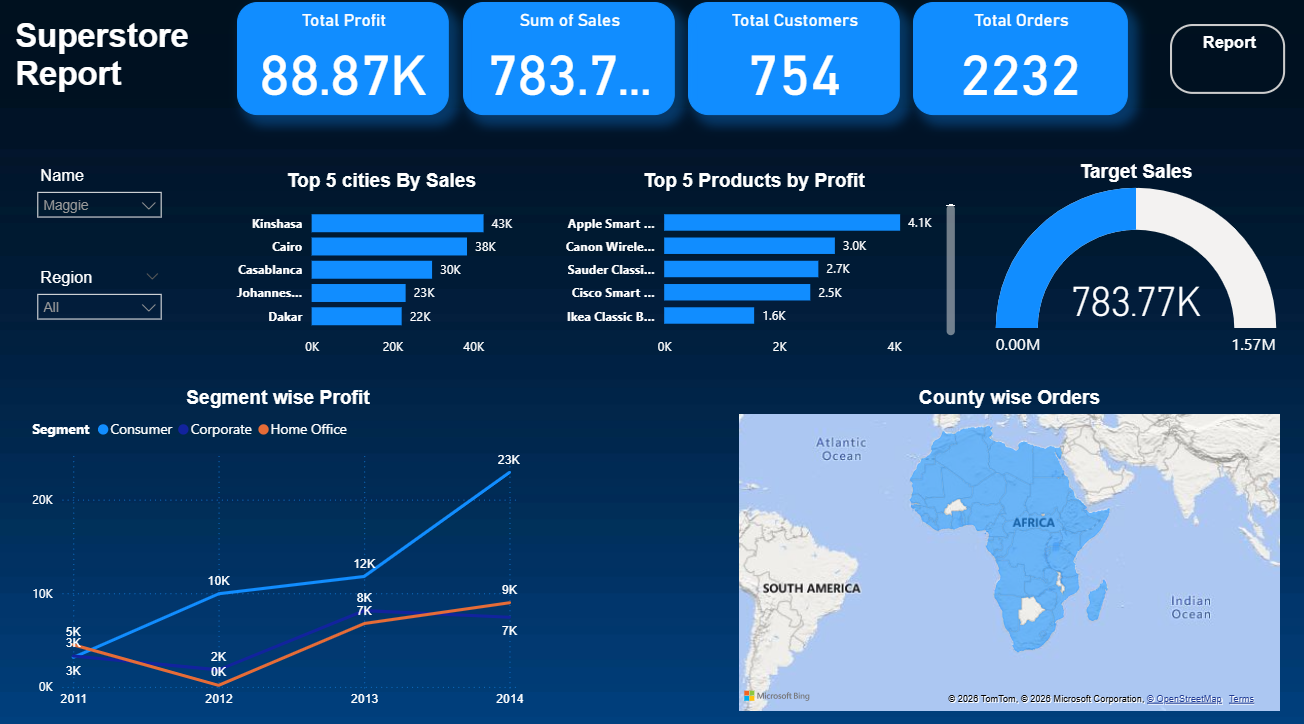

What the dashboard file says about the page in this screenshot:
{"tool":"powerbi","page":{"name":"Page 1","canvas":[1280,720],"ordinal":0},"visuals":[{"type":"barChart","title":"Top 5 cities By Sales","fields":{"Category":["Orders.City"],"Y":["Sum(Orders.Sales)"]},"box":[213,170.2,323.9,189.7],"z":0},{"type":"card","title":"Total Customers","fields":{"Values":["Count(Orders.Customer Name)"]},"box":[673.1,6.8,206.2,109.9],"z":1000},{"type":"card","title":"Total Orders","fields":{"Values":["Count(Orders.Order ID)"]},"box":[891.9,6.8,209.1,109.9],"z":2000},{"type":"card","title":"Sum of Sales","fields":{"Values":["Sum(Orders.Sales)"]},"box":[454.2,6.8,206.2,109.9],"z":3000},{"type":"card","title":"Total Profit","fields":{"Values":["Sum(Orders.Profit)"]},"box":[234.4,6.8,206.2,109.9],"z":4000},{"type":"gauge","title":"Target Sales","fields":{"Y":["Sum(Orders.Sales)"]},"box":[937.6,161.5,342.4,198.4],"z":5000},{"type":"barChart","title":"Top 5 Products by Profit","fields":{"Category":["Orders.Product Name"],"Y":["Sum(Orders.Profit)"]},"box":[536.9,170.2,400.7,189.7],"z":6000},{"type":"lineChart","title":"Segment wise Profit","fields":{"Category":["Orders.Order Date.Variation.Date Hierarchy.Year"],"Y":["Sum(Orders.Profit)"],"Series":["Orders.Segment"]},"box":[30.2,381.3,488.3,320],"z":7000},{"type":"filledMap","title":"County wise Orders","fields":{"Category":["Orders.Country"]},"box":[717.8,381.3,535.9,320],"z":8000},{"type":"slicer","fields":{"Values":["Employees.Name"]},"box":[30.2,161.5,141,69.1],"z":9000},{"type":"slicer","fields":{"Values":["Employees.Region"]},"box":[30.2,260.7,141,69.1],"z":10000},{"type":"shape","title":"Report","box":[1141.9,28.2,111.9,68.1],"z":11000},{"type":"textbox","box":[13.6,0,230.5,135.2],"z":12000}]}

Visuals, with their boxes in screenshot pixels (x1, y1, x2, y2), scaled from the page's 1280x720 canvas onto the 1304x724 screenshot:
"Top 5 cities By Sales" barChart: [217,171,547,362]
"Total Customers" card: [686,7,896,117]
"Total Orders" card: [909,7,1122,117]
"Sum of Sales" card: [463,7,673,117]
"Total Profit" card: [239,7,449,117]
"Target Sales" gauge: [955,162,1303,362]
"Top 5 Products by Profit" barChart: [547,171,955,362]
"Segment wise Profit" lineChart: [31,383,528,705]
"County wise Orders" filledMap: [731,383,1277,705]
slicer - Employees.Name: [31,162,174,232]
slicer - Employees.Region: [31,262,174,332]
"Report" shape: [1163,28,1277,97]
textbox: [14,0,249,136]
